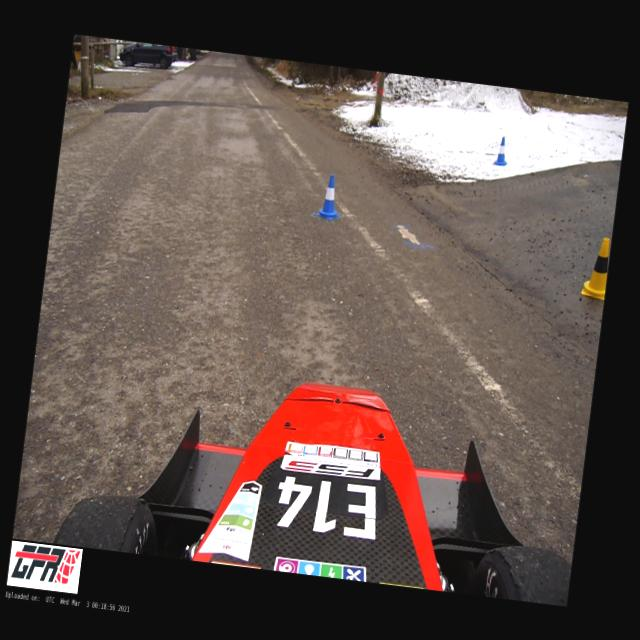blue_cone: (316, 174, 344, 220), (494, 136, 509, 166)
yellow_cone: (580, 236, 611, 298)
